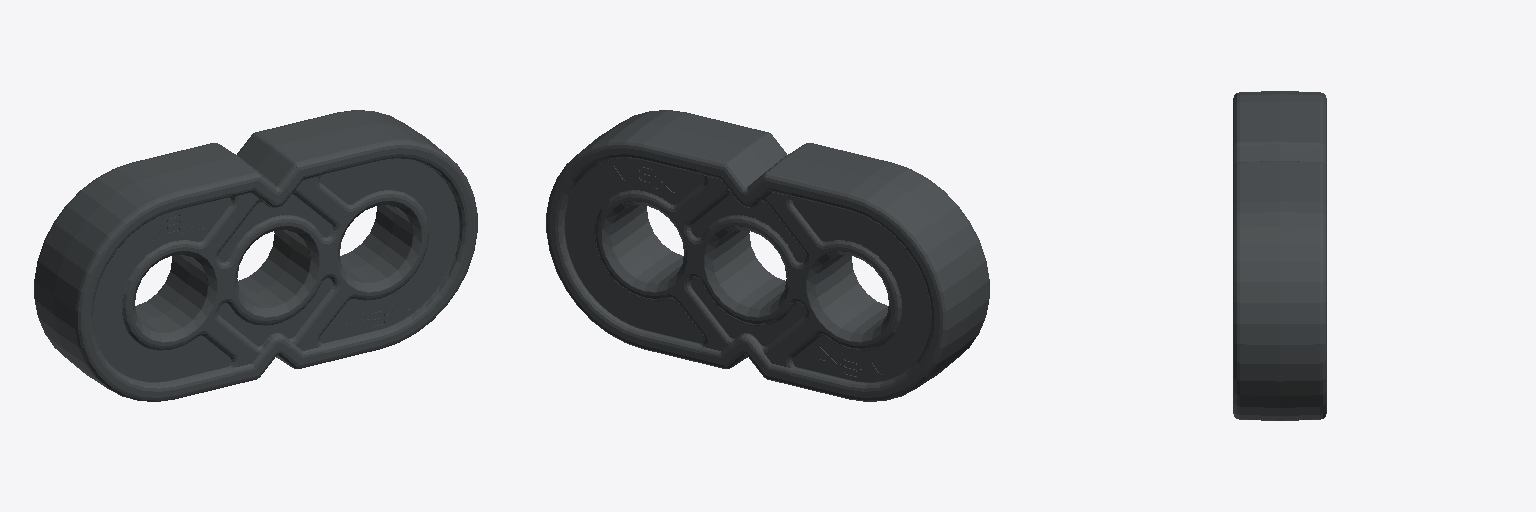
The model's file is VIQRC-MixAndMatch-H2H-_-GameObjects_Beam.obj.
3 renders of one model, left to right at view 1: azimuth 30°, elevation 25°; view 2: azimuth 150°, elevation 25°; view 3: azimuth 270°, elevation 25°, orthographic.
Visible parts, largest first — view 1: Body1; view 2: Body1; view 3: Body1.
Part boxes in pixels (bbox=[...]): Body1: bbox=[34, 110, 477, 401]; Body1: bbox=[546, 110, 989, 401]; Body1: bbox=[1233, 91, 1326, 420].
Bounding box in the file's own units: 250 × 124 × 50.